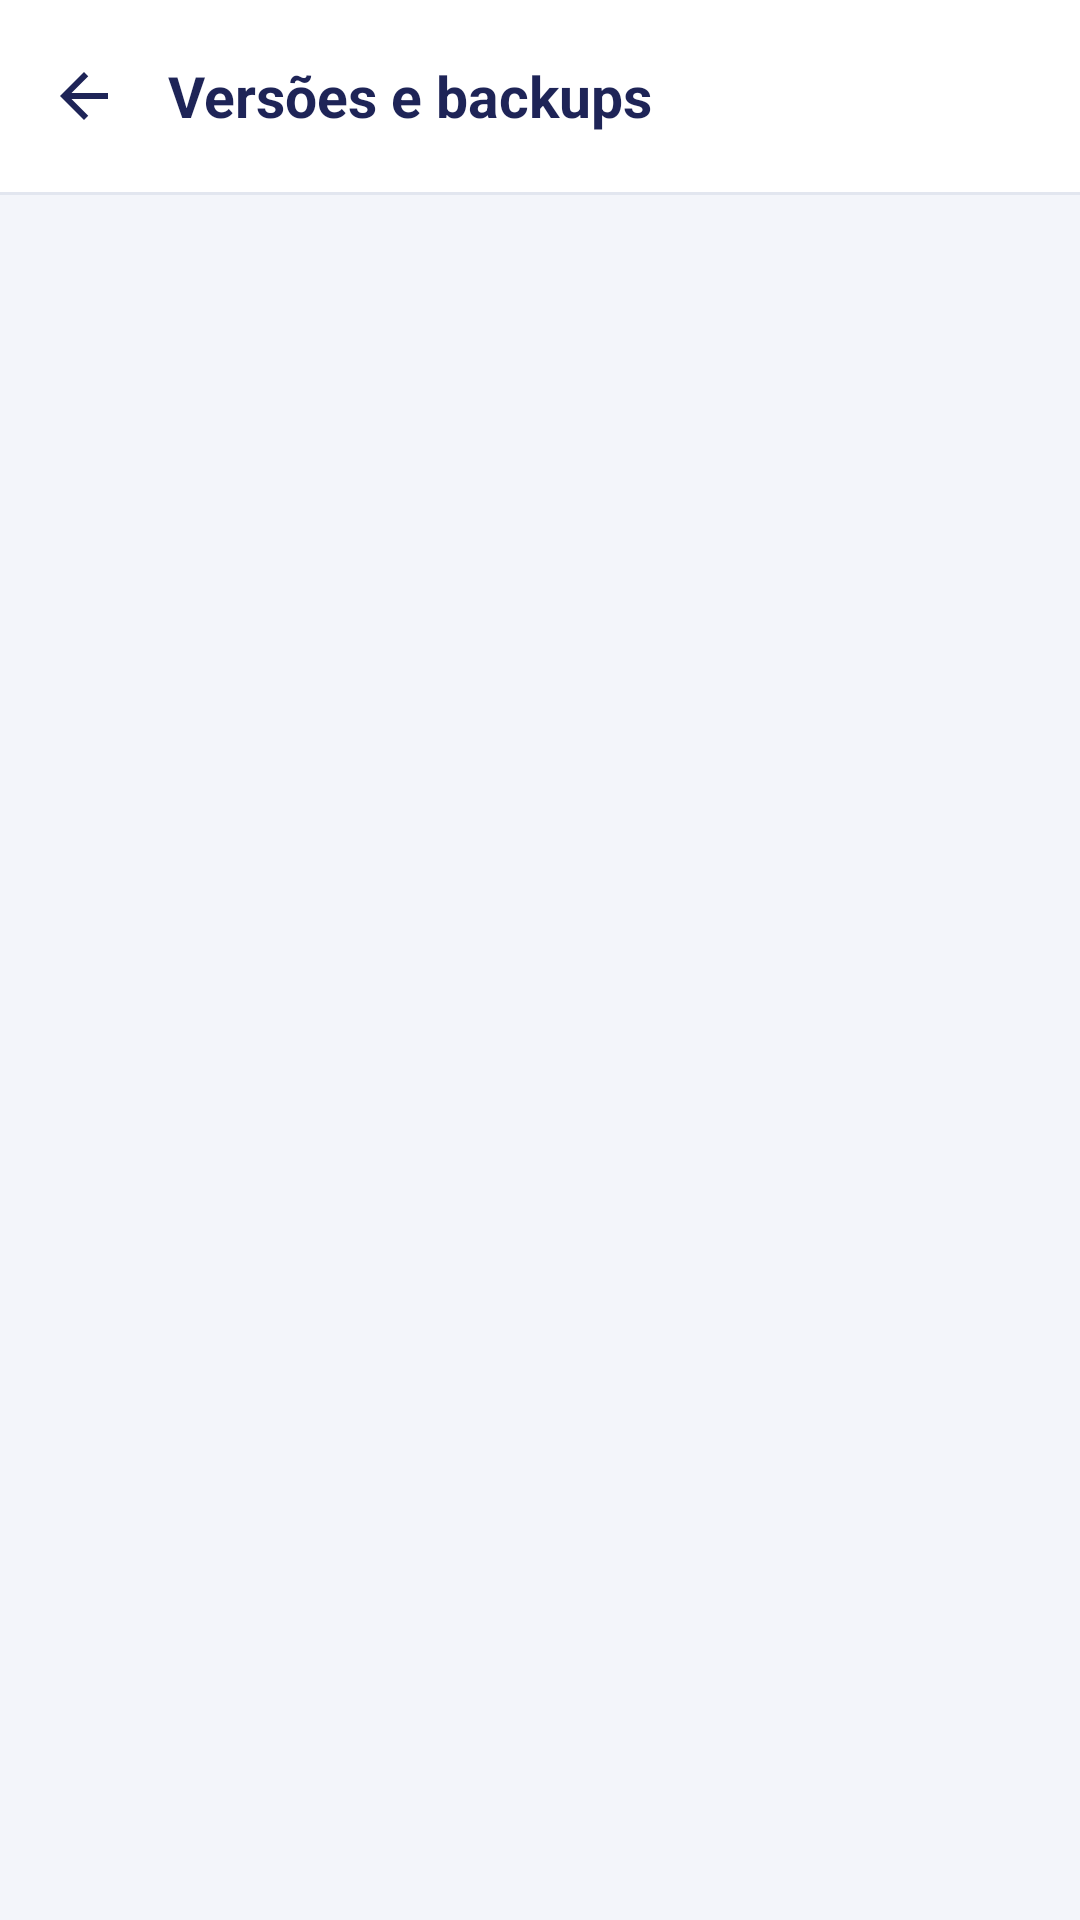

Screen size 1080w x 1920h. Icon name, then its center in pixels as (x,y):
Voltar: (84,96)
